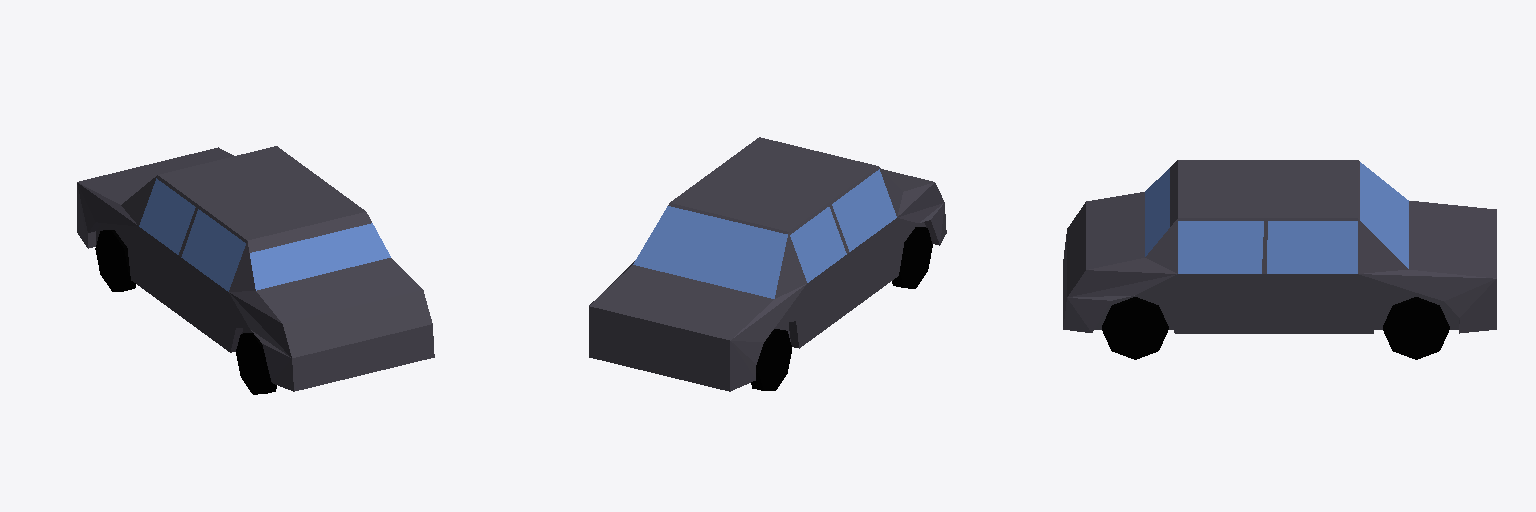
File: Car_Gray.obj
3 views of the same model, side by side, from view 1: azimuth 30°, elevation 25°; view 2: azimuth 150°, elevation 25°; view 3: azimuth 270°, elevation 25° (orthographic).
Parts seen in each view (by area): view 1: Cube; view 2: Cube; view 3: Cube.
Boxes of the visible parts, x1,y1,x2,y2 form: Cube: [77, 146, 434, 394]; Cube: [589, 137, 946, 391]; Cube: [1063, 160, 1496, 359].
Bounding box in the file's own units: 1.42 × 1.17 × 3.41.